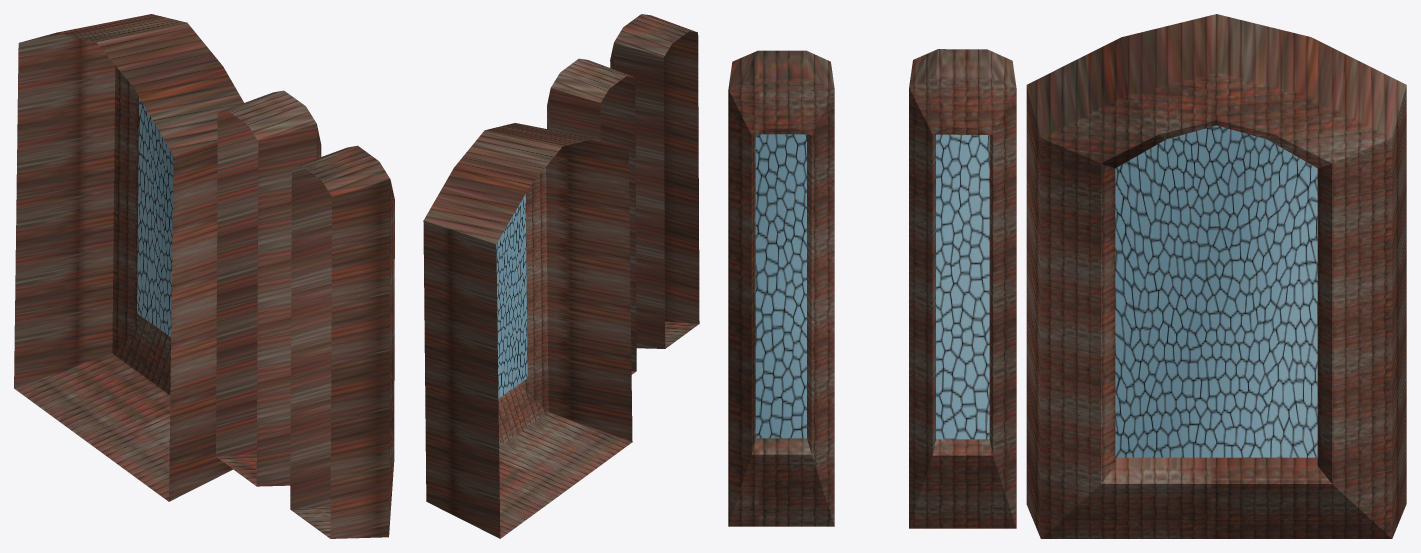
The model's file is kosciol_okna_bok_2.fbx.
3 views of the same model, side by side, from view 1: azimuth 30°, elevation 25°; view 2: azimuth 150°, elevation 25°; view 3: azimuth 270°, elevation 25° (orthographic). The views are drawn at different scales.
Visible parts, largest first — view 1: oknabok; view 2: oknabok; view 3: oknabok.
Boxes of the visible parts, left/top/right/bottom form: oknabok: left=14, top=14, right=394, bottom=538; oknabok: left=423, top=14, right=699, bottom=538; oknabok: left=728, top=14, right=1406, bottom=538.
Size of the model in its own units: 336 by 1133 by 1412.
Materials: 1 (1 with a texture image).
